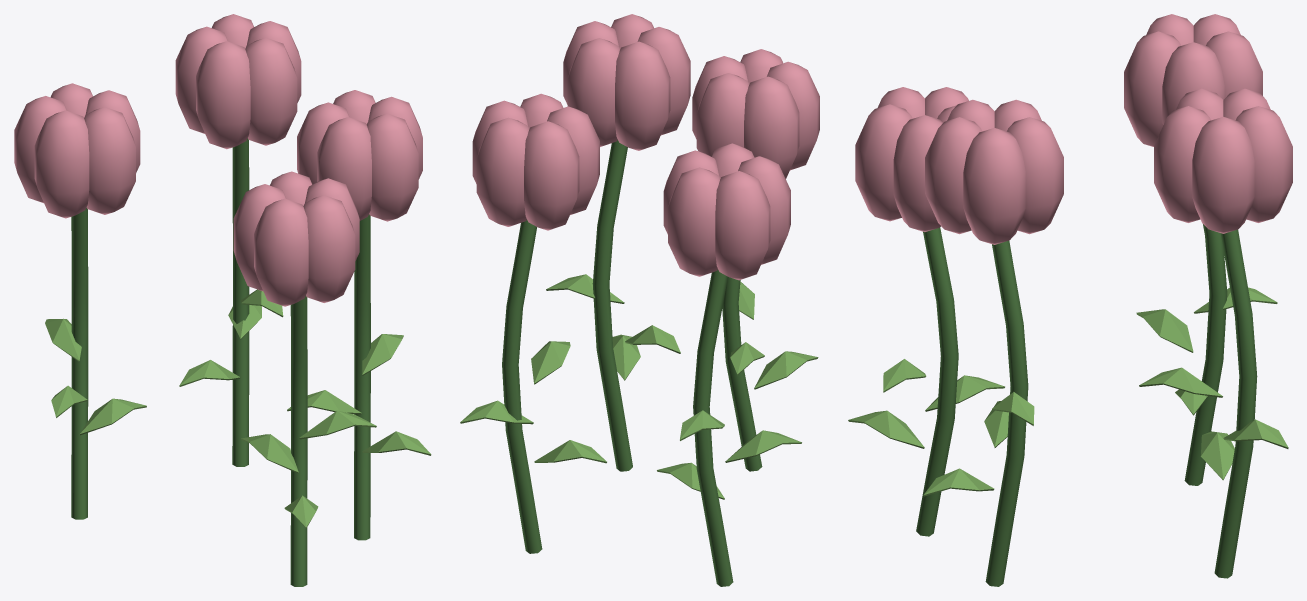
File: flower.tulip.glb
3 renders of one model, left to right at view 1: azimuth 30°, elevation 25°; view 2: azimuth 150°, elevation 25°; view 3: azimuth 270°, elevation 25°, orthographic. The views are drawn at different scales.
Parts seen in each view (by area): view 1: Living stem; view 2: Living stem; view 3: Living stem.
Boxes of the visible parts, left/top/right/bottom form: Living stem: left=14, top=14, right=431, bottom=586; Living stem: left=460, top=14, right=819, bottom=586; Living stem: left=848, top=14, right=1292, bottom=586.
Bounding box in the file's own units: 0.3809 × 0.526 × 0.4472.
